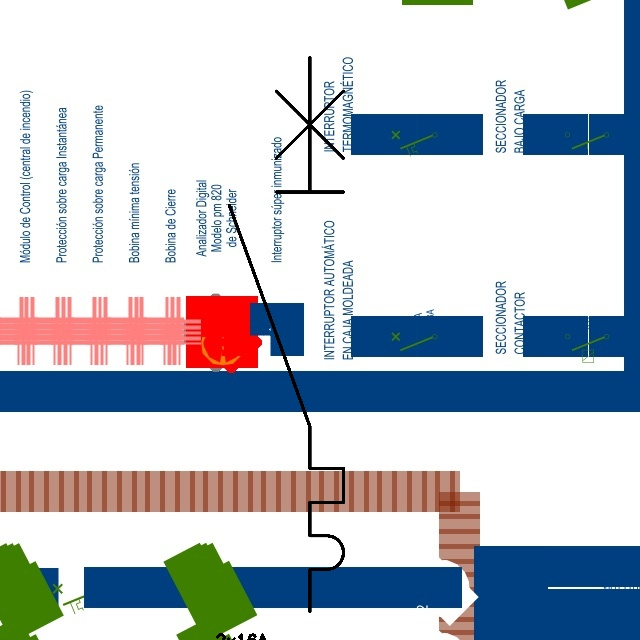interruptor_termomagnetico: (215, 43, 358, 626)
